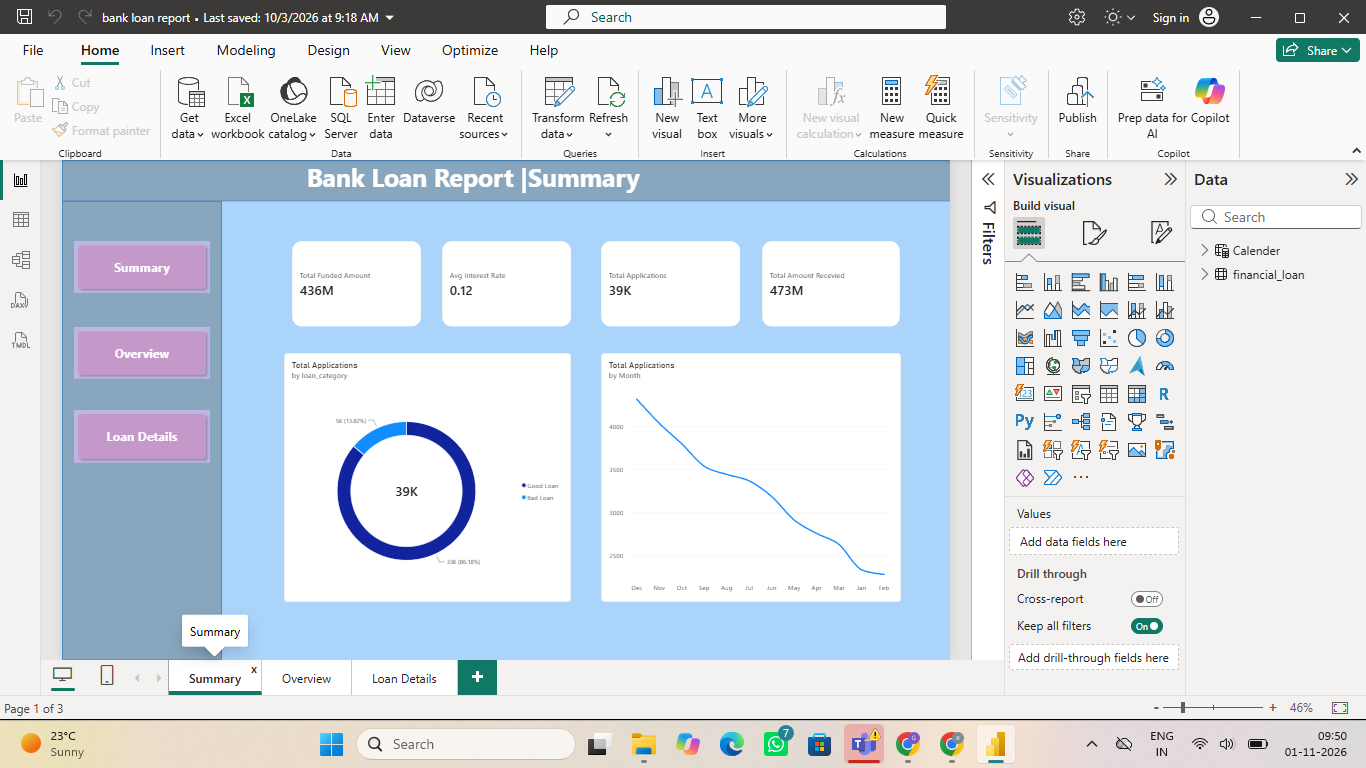

This screenshot's page, from the dashboard's own definition file:
{"tool":"powerbi","page":{"name":"Summary","canvas":[1920,1080],"ordinal":0},"visuals":[{"type":"cardVisual","fields":{"Data":["financial_loan.Total Funded Amount"]},"box":[496.3,175.9,279.4,185.5],"z":0},{"type":"cardVisual","fields":{"Data":["financial_loan.Total Amount Recevied"]},"box":[1512.9,175.9,298.7,185.5],"z":1000},{"type":"cardVisual","fields":{"Data":["financial_loan.Total Applications"]},"box":[1163.6,175.9,301.1,185.5],"z":2000},{"type":"cardVisual","fields":{"Data":["financial_loan.Avg Interest Rate"]},"box":[821.5,175.9,279.4,185.5],"z":3000},{"type":"donutChart","fields":{"Category":["financial_loan.loan_category"],"Y":["financial_loan.Total Applications"]},"box":[480,416,620,538],"z":4000},{"type":"lineChart","fields":{"Y":["financial_loan.Total Applications"],"Category":["Calender.Month"]},"box":[1164,416,648,538],"z":5000},{"type":"shape","box":[0,0,1920,89.1],"z":6000},{"type":"textbox","box":[520.4,0,734.8,89.1],"z":7000},{"type":"shape","box":[0,88.6,345.6,991.4],"z":8000},{"type":"actionButton","box":[25.9,175,293.8,112.3],"z":9000},{"type":"actionButton","box":[25.9,360.7,293.8,112.3],"z":10000},{"type":"actionButton","box":[25.9,540,293.8,114.5],"z":11000}]}

Visuals, with their boxes on the page's 1920x1080 design canvas (x1, y1, x2, y2). These are canvas units, not pixel positions in the 1366x768 screenshot, which may show the page scaled, cropped or inside an application window:
cardVisual - financial_loan.Total Funded Amount: {"x1": 496, "y1": 176, "x2": 776, "y2": 361}
cardVisual - financial_loan.Total Amount Recevied: {"x1": 1513, "y1": 176, "x2": 1812, "y2": 361}
cardVisual - financial_loan.Total Applications: {"x1": 1164, "y1": 176, "x2": 1465, "y2": 361}
cardVisual - financial_loan.Avg Interest Rate: {"x1": 822, "y1": 176, "x2": 1101, "y2": 361}
donutChart - financial_loan.loan_category x financial_loan.Total Applications: {"x1": 480, "y1": 416, "x2": 1100, "y2": 954}
lineChart - financial_loan.Total Applications x Calender.Month: {"x1": 1164, "y1": 416, "x2": 1812, "y2": 954}
shape: {"x1": 0, "y1": 0, "x2": 1920, "y2": 89}
textbox: {"x1": 520, "y1": 0, "x2": 1255, "y2": 89}
shape: {"x1": 0, "y1": 89, "x2": 346, "y2": 1080}
actionButton: {"x1": 26, "y1": 175, "x2": 320, "y2": 287}
actionButton: {"x1": 26, "y1": 361, "x2": 320, "y2": 473}
actionButton: {"x1": 26, "y1": 540, "x2": 320, "y2": 654}
